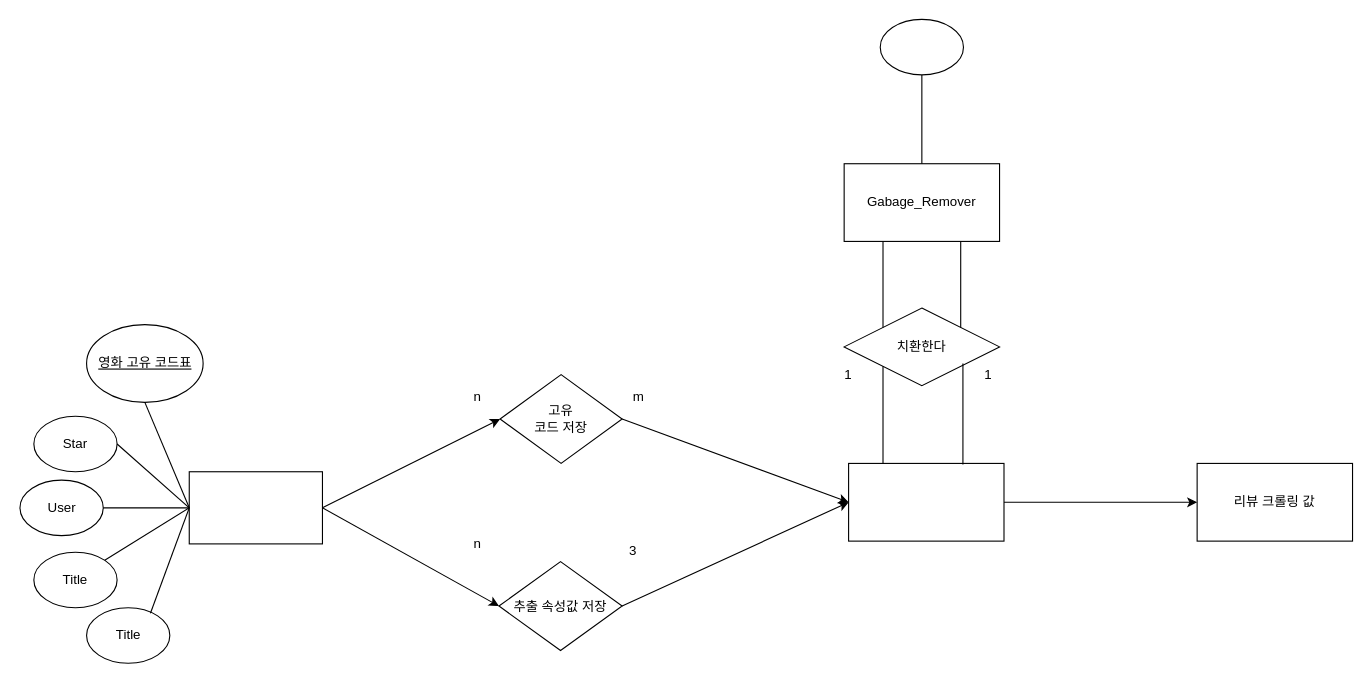
This 1372x683 diagram has some shape labels left out. The centre of each missing label's shape, as x and y in pixels:
Crawler: pixel 925 501
Movie Review Site: pixel 255 507
Temp: pixel 921 46
